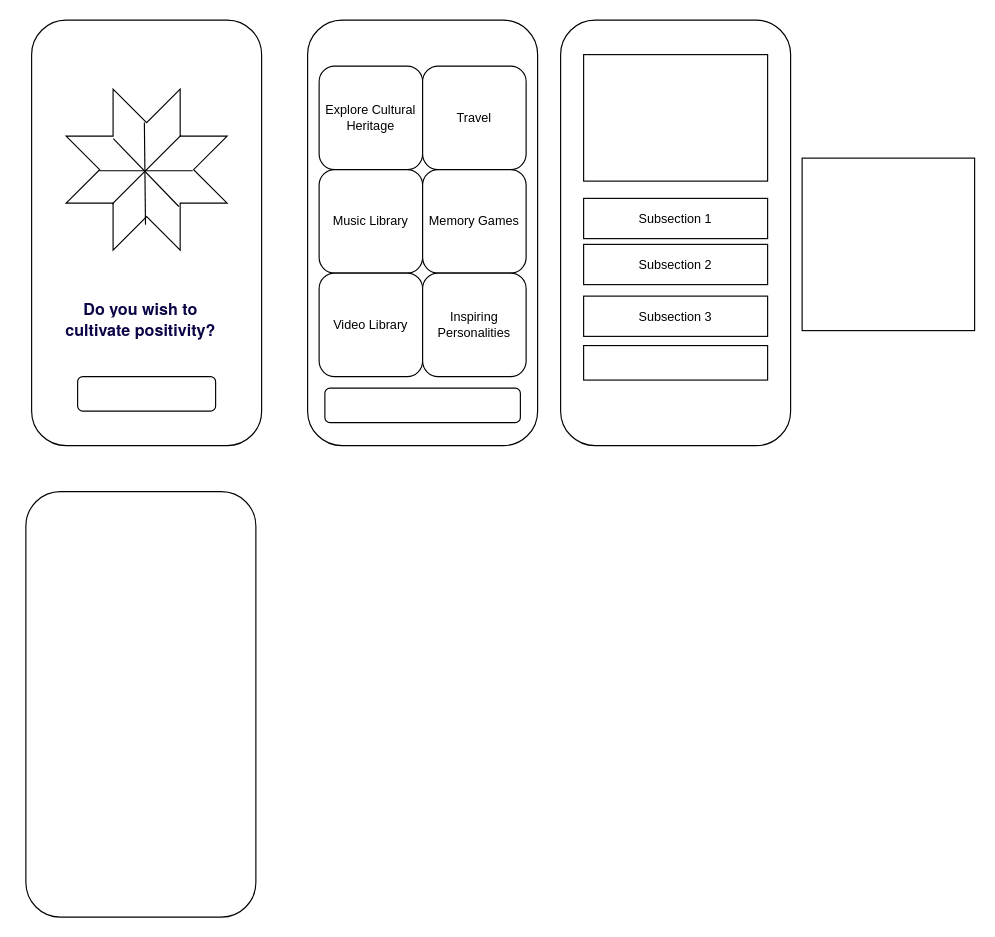
The diagram is 995 pixels wide and 937 high, and some of its shapes have lost their labels. The centre of each missing label's shape, as x and y in pixels:
"Explore More" belongs at (146,393).
"Other Initiatives and Apps" belongs at (422,405).
"Picture/ Animation" belongs at (675,117).
"Subsections can be video/audio/ bullet points/paragraphs" belongs at (888,244).
